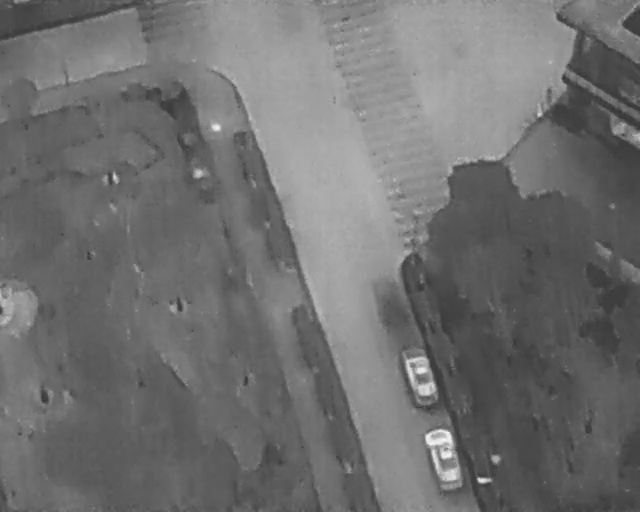Car: (396, 340, 442, 413), (421, 426, 468, 494)
